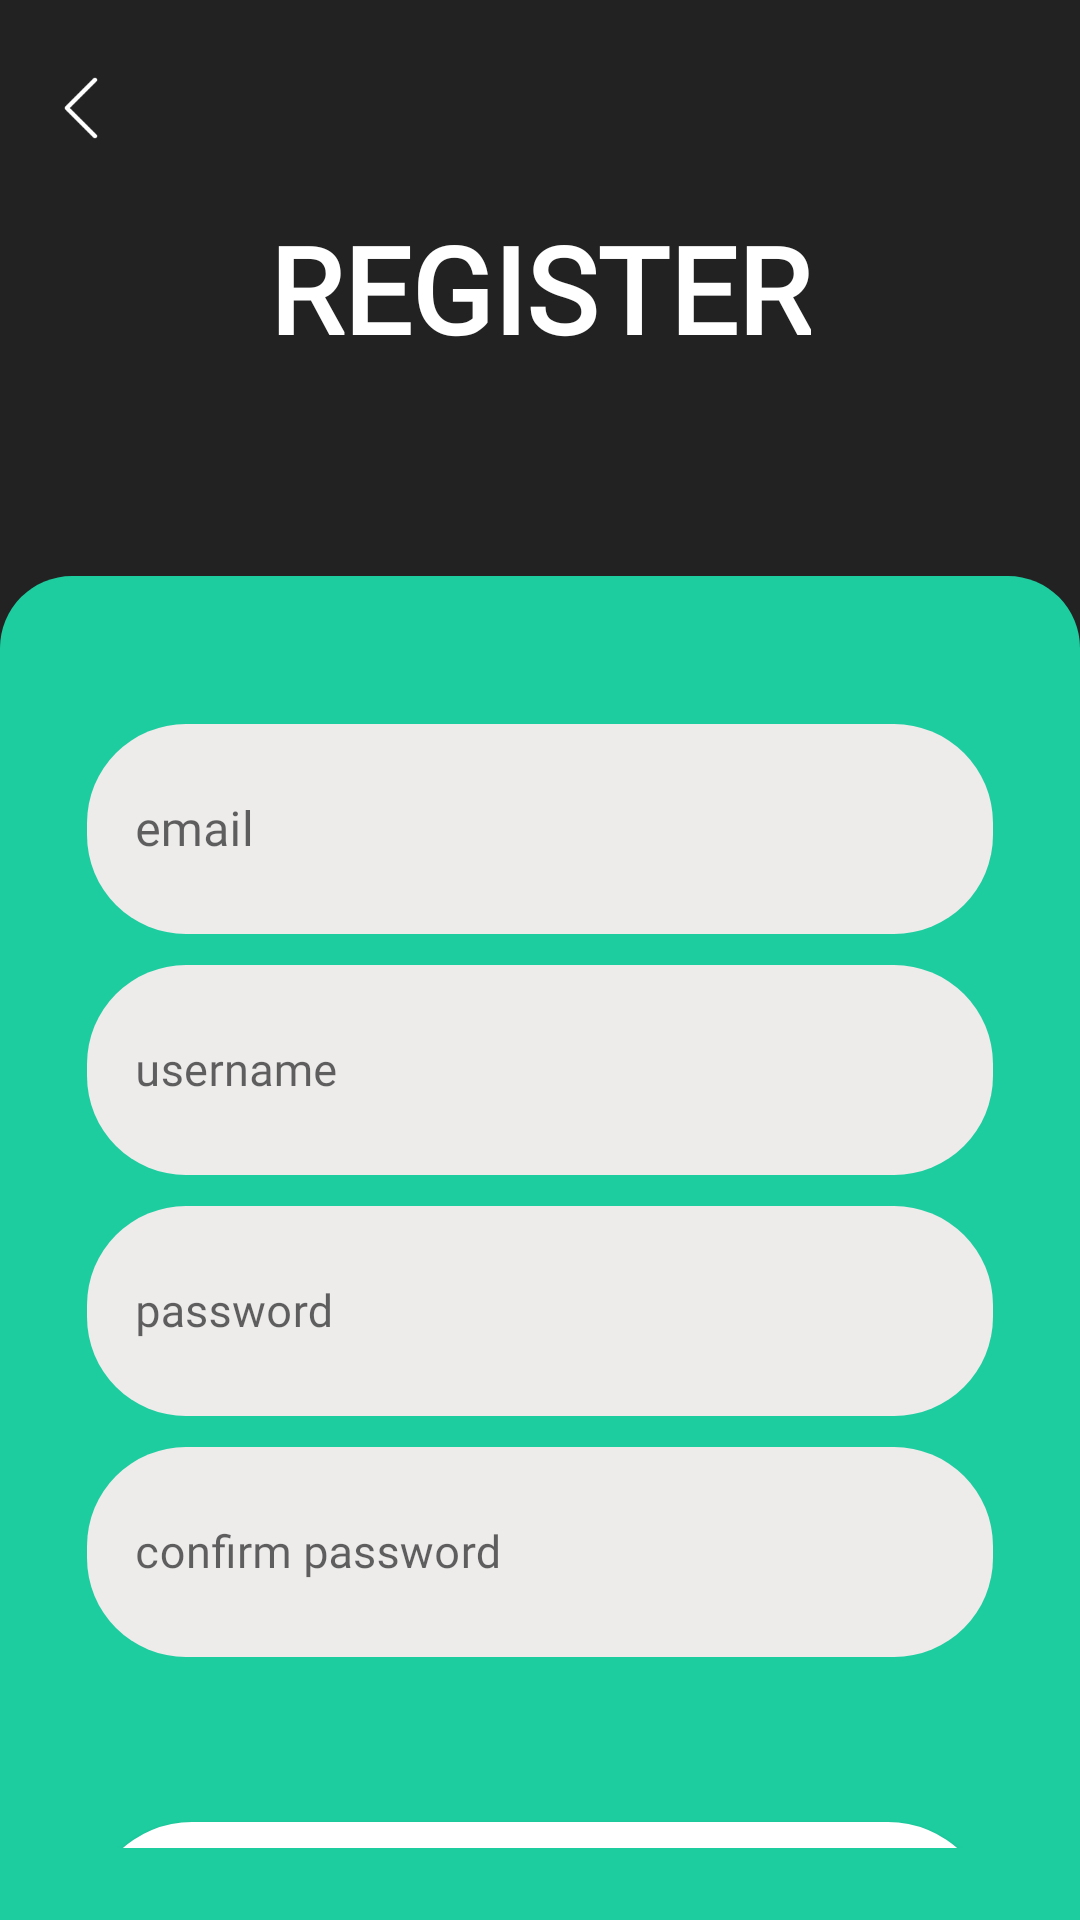

Where to tap for icons on this 1080px×1920px app screen, as (x=x, y=y):
Back Button: (x=81, y=108)
